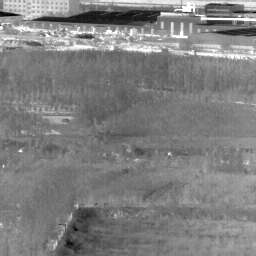aircraft: (92, 40, 94, 42)
